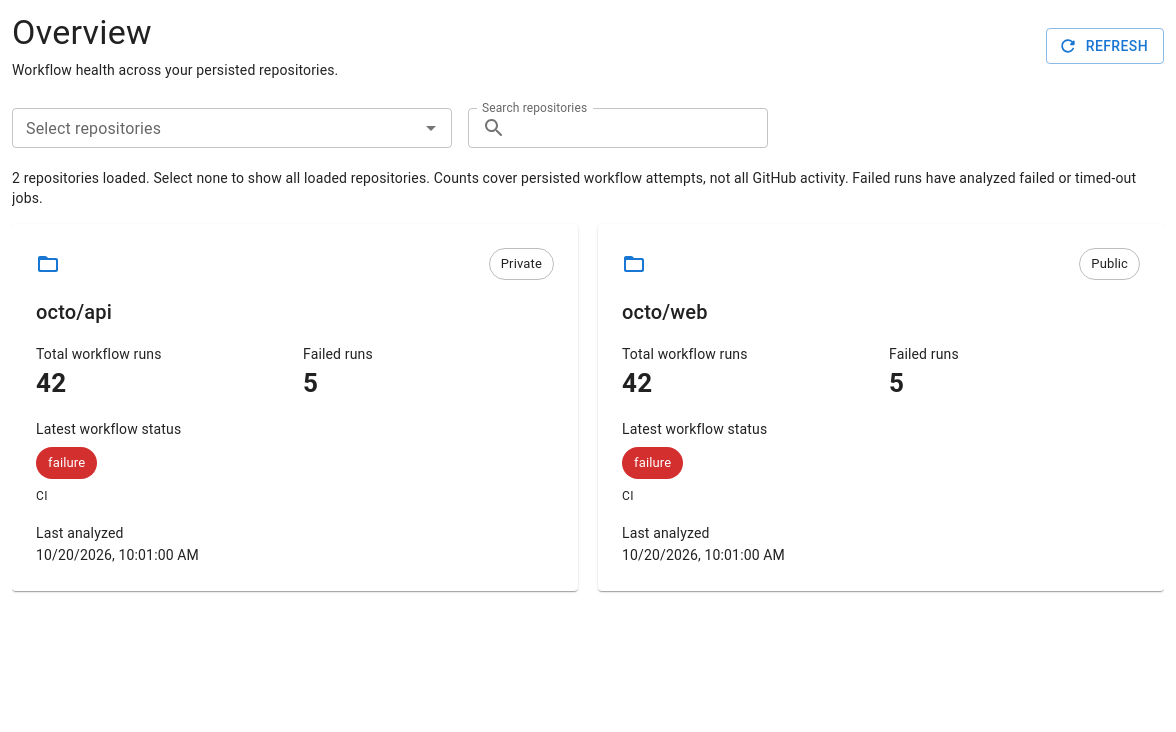
Test: repository dashboard › shows no matches for a local search without making API requests
The image size is (1176, 732).
Type "absent" into the field labelled "Search repositories".
click(641, 128); type("absent")  # box x1=514 y1=108 x2=768 y2=148
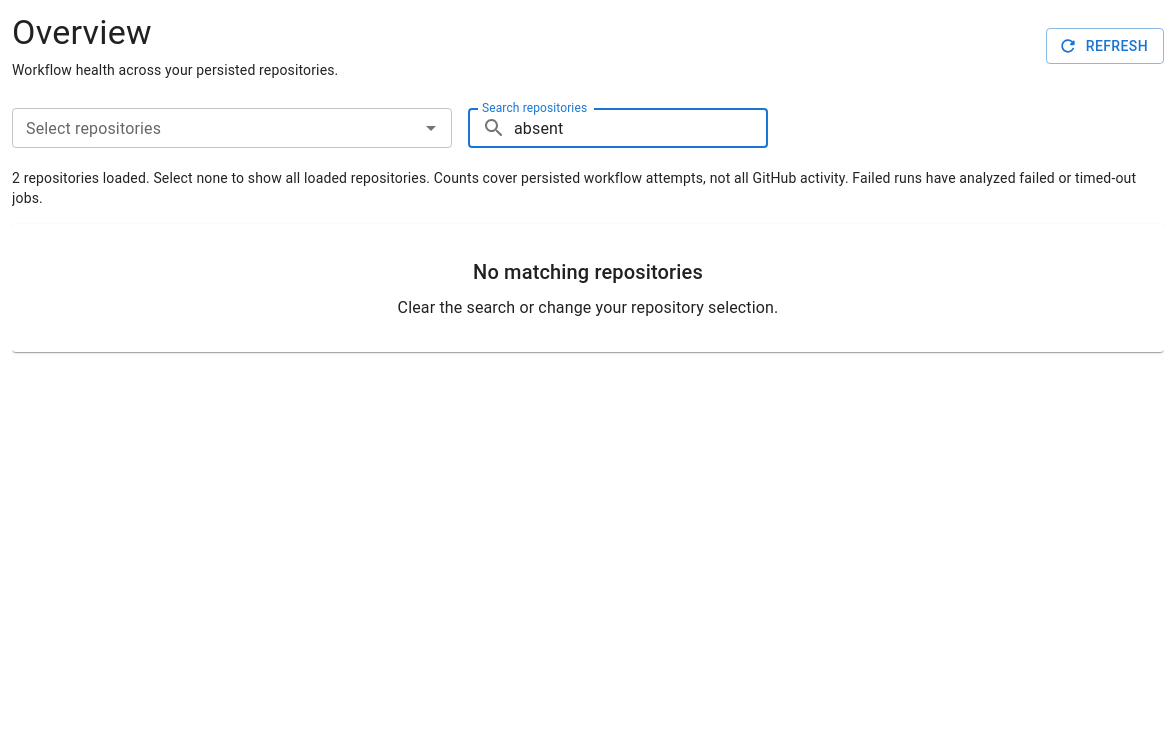
Check: the heading "No matching repositories" is shown, box x1=473 y1=260 x2=703 y2=284
